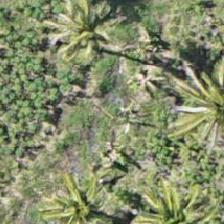coconut_tree: (26, 0, 116, 79), (31, 168, 121, 223), (174, 66, 223, 156), (122, 176, 212, 223)
